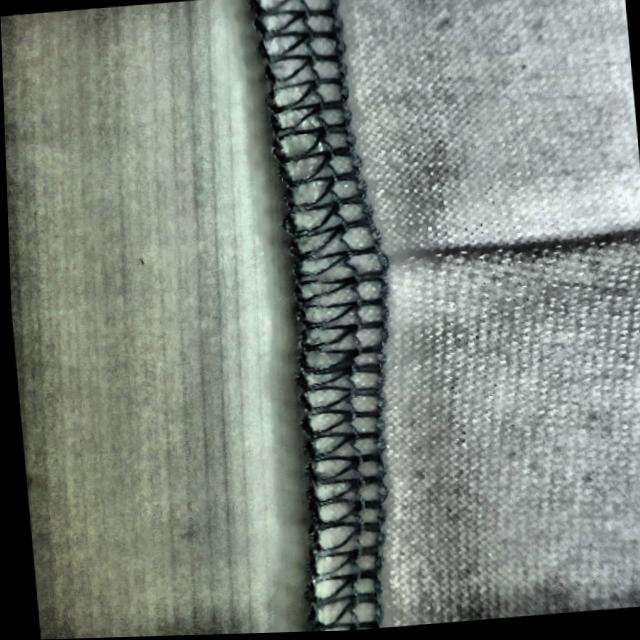seam: (280, 195, 624, 340)
